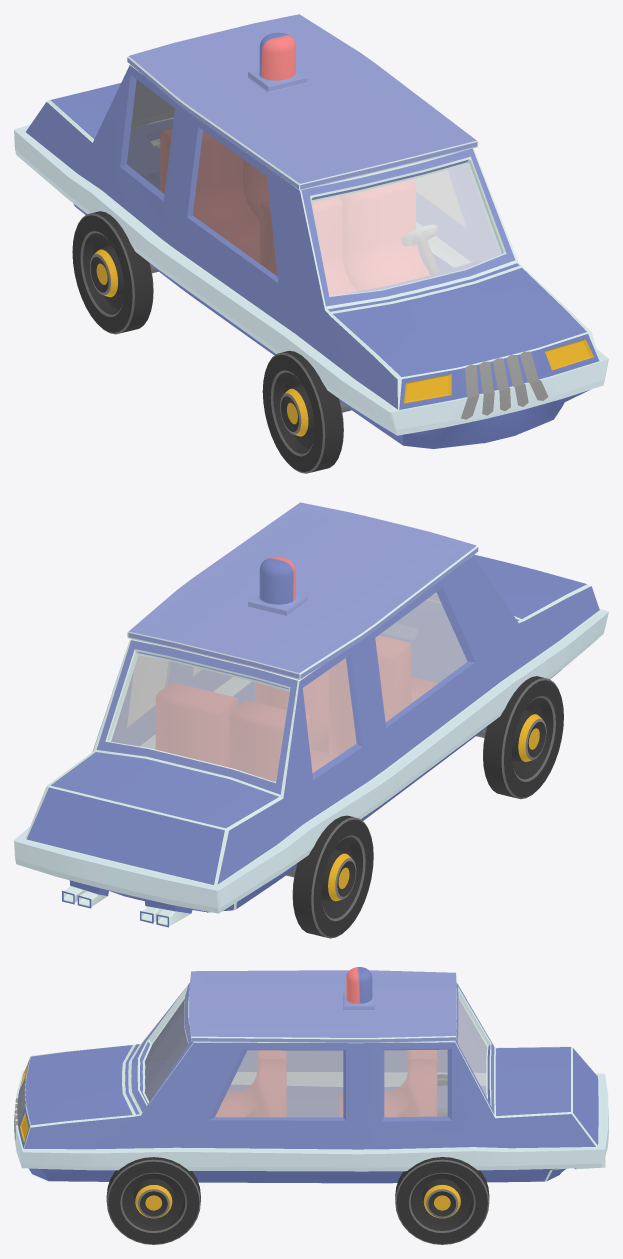
The model's file is Polizei1-downsized.glb.
3 views of the same model, one above another, from view 1: azimuth 30°, elevation 25°; view 2: azimuth 150°, elevation 25°; view 3: azimuth 270°, elevation 25° (orthographic). The views are drawn at different scales.
Visible parts, largest first — view 1: Polizeiauto, Polizeiräder; view 2: Polizeiauto, Polizeiräder; view 3: Polizeiauto, Polizeiräder.
Boxes of the visible parts, x1,y1,x2,y2 form: Polizeiauto: (14,14,608,448); Polizeiräder: (72,211,351,473); Polizeiauto: (14,502,608,927); Polizeiräder: (286,676,563,938); Polizeiauto: (14,967,608,1183); Polizeiräder: (106,1074,489,1244).
Size of the model in its own units: 1.43 by 1.69 by 3.94.
Materials: 5 (4 with a texture image).
